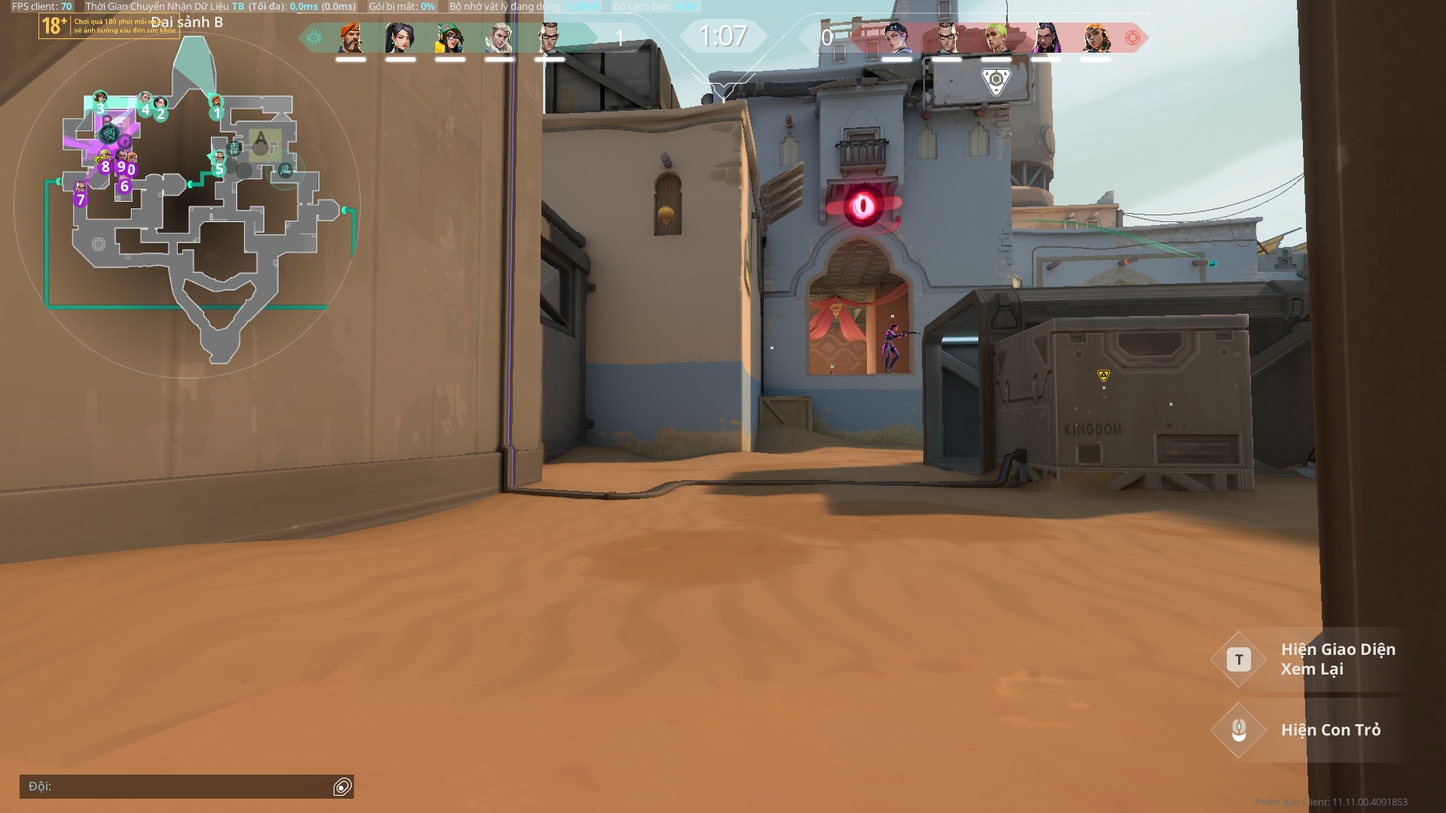body: (885, 328, 895, 343)
head: (891, 322, 898, 330), (829, 370, 834, 375)
